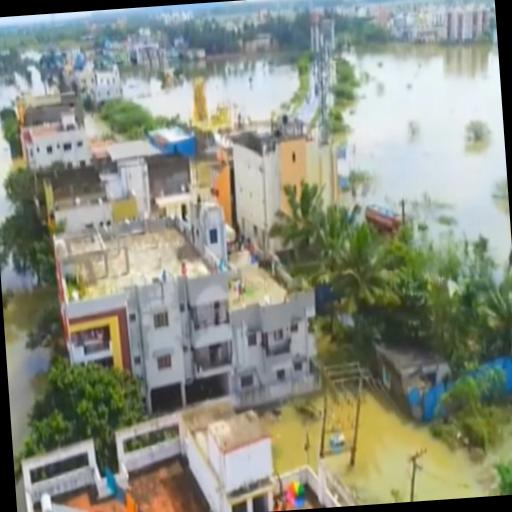flood: (343, 42, 512, 264), (327, 393, 492, 505), (122, 54, 297, 120), (3, 290, 56, 456), (270, 405, 320, 474), (326, 391, 358, 451), (0, 69, 41, 110), (1, 267, 30, 291)
house: (183, 388, 279, 512), (94, 128, 204, 236), (230, 123, 314, 257), (20, 98, 89, 184)
